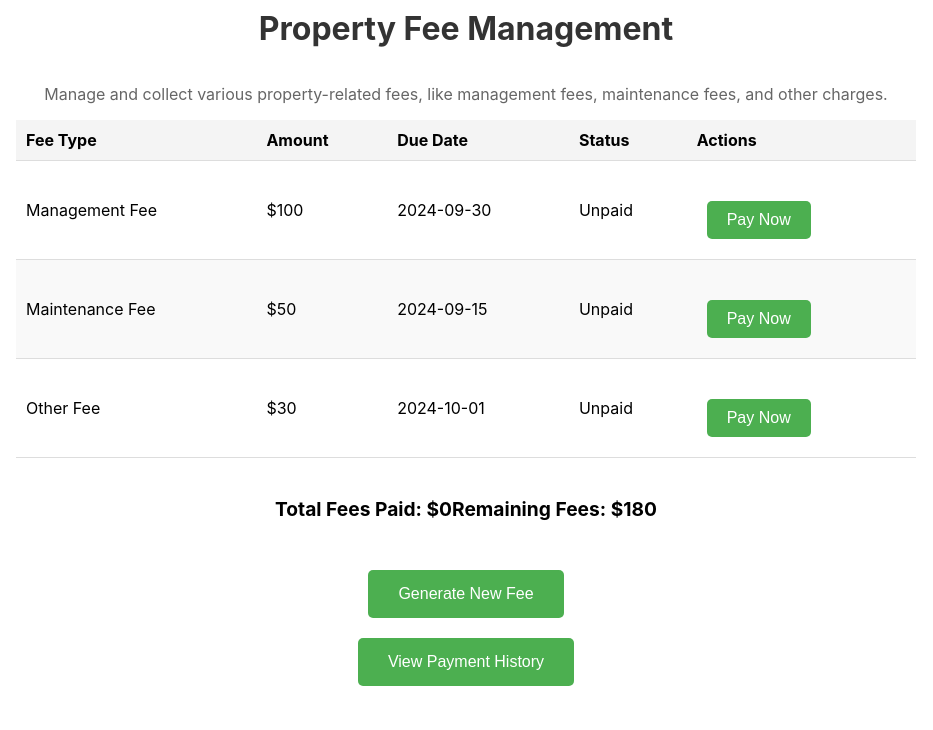
PropertyFee component › should generate a new fee when "Generate New Fee" is clicked
The image size is (933, 730).
Expected: the text "Unpaid" is shown 3 times, [569,160,687,260]; [569,260,687,358]; [569,358,687,458]
Click the button "Generate New Fee" at (466, 594), box [368,570,564,618]
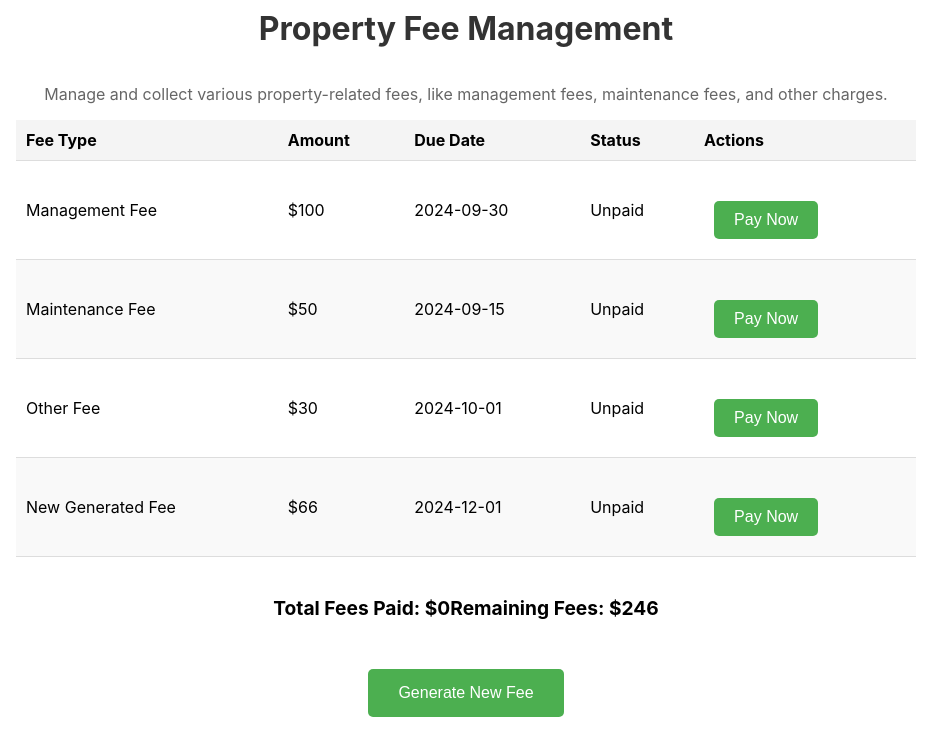
Expected: the text "Unpaid" is shown 4 times, [580,160,694,260]; [580,260,694,358]; [580,358,694,458]; [580,458,694,556]
